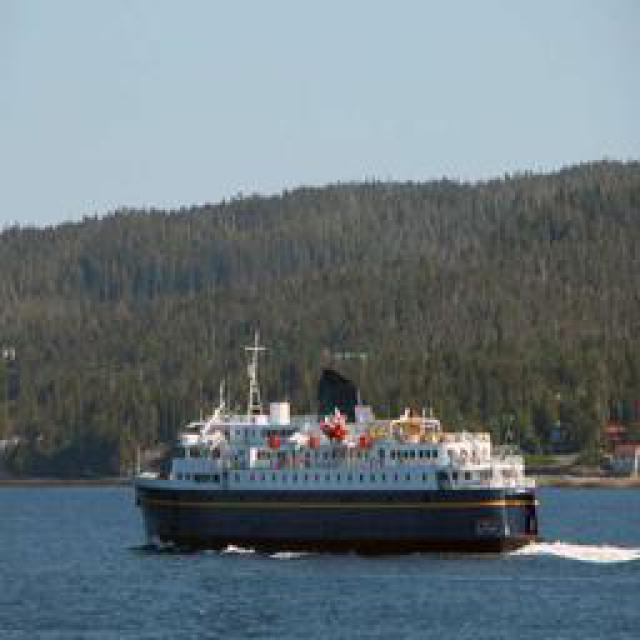Ship: (129, 364, 542, 554)
